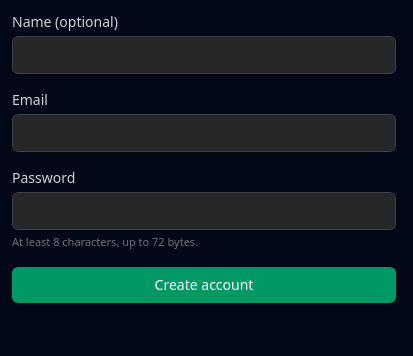
Test case: registration form › rejects malformed email before sending a request
Type "not-an-email" into the field labelled "Email".
click(204, 133); type("not-an-email")  # box [12,114,396,152]
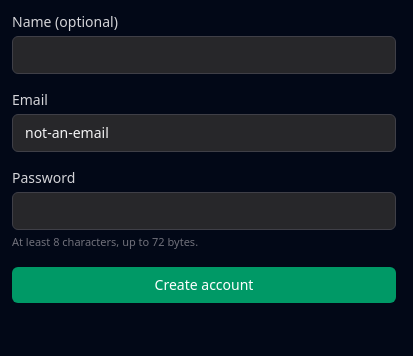
Type "valid password" into the password field labelled "Password".
click(204, 211); type("valid password")  # box [12,192,396,230]
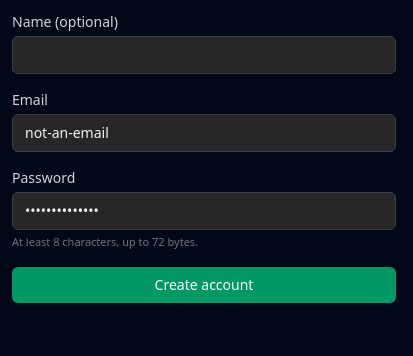
Click the button "Create account".
click(204, 284)  # box [12,266,396,302]
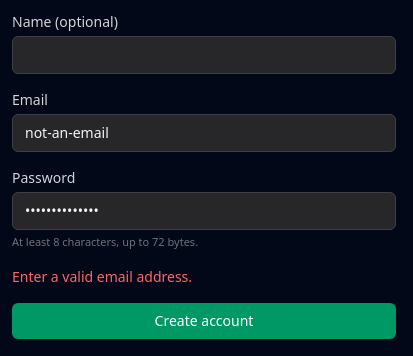
Now the message reads "Enter a valid email address.", box [12,266,192,286]
